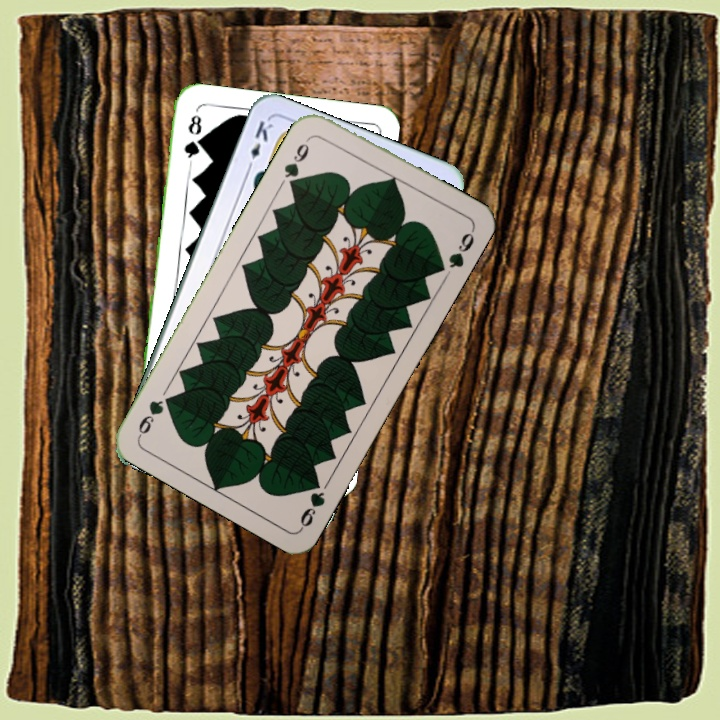EK: (243, 116, 276, 174)
G8: (180, 111, 204, 167)
G9: (280, 133, 314, 191), (295, 472, 328, 531)
